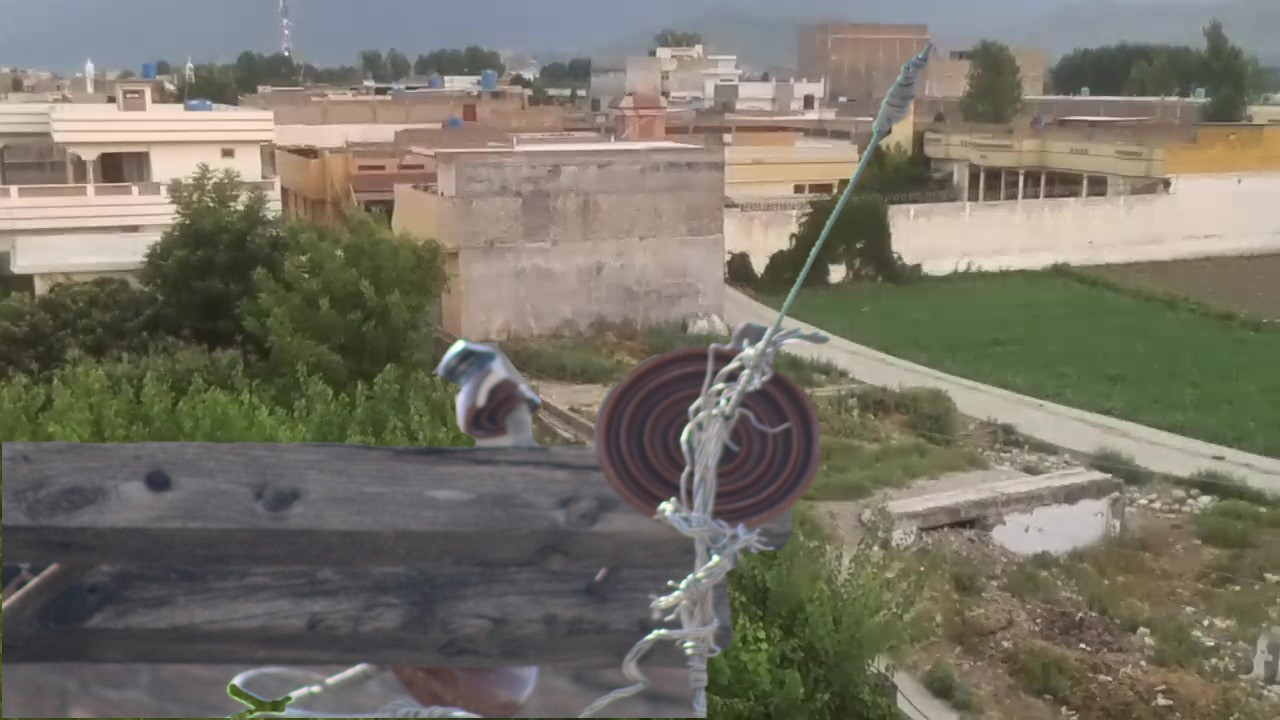defect_pin: (429, 329, 548, 449)
insulator_disc: (594, 336, 827, 530)
